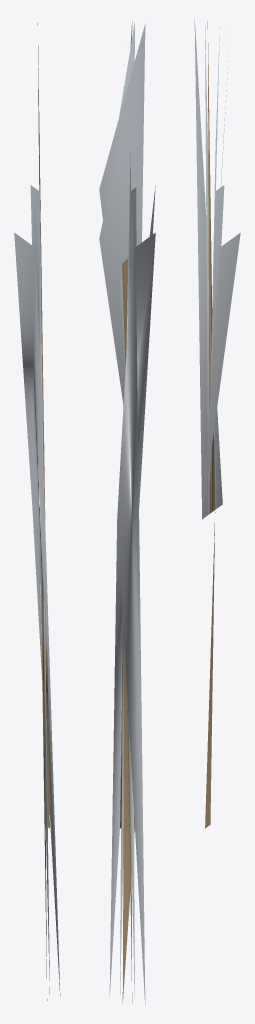
Rendered from equip_weapon_air_staff.glb.
The picture shows the model from 3 angles, left to right: view 1: azimuth 30°, elevation 25°; view 2: azimuth 150°, elevation 25°; view 3: azimuth 330°, elevation 25°; orthographic projection.
Parts seen in each view (by area): view 1: equip_weapon_air_staff; view 2: equip_weapon_air_staff; view 3: equip_weapon_air_staff.
Boxes of the visible parts, <box> form: equip_weapon_air_staff: <box>14,23,60,1000</box>; equip_weapon_air_staff: <box>99,20,155,1005</box>; equip_weapon_air_staff: <box>194,18,240,828</box>.
Size of the model in its own units: 0.076 by 2 by 0.076.
